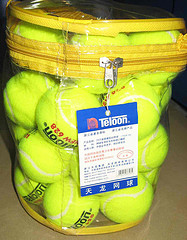tennis ball: (36, 84, 106, 152), (67, 32, 133, 95), (100, 76, 163, 138), (41, 172, 101, 232), (16, 127, 81, 182), (3, 70, 59, 131), (100, 169, 157, 227), (128, 26, 184, 84), (14, 15, 70, 47), (138, 124, 172, 175), (11, 163, 51, 205)
